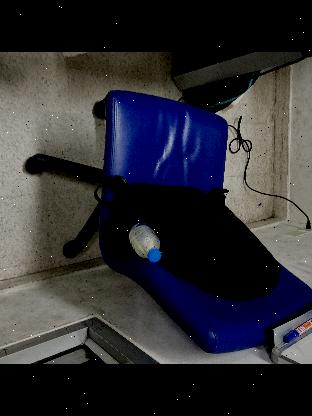Plastic Bottle: (123, 221, 165, 262)
